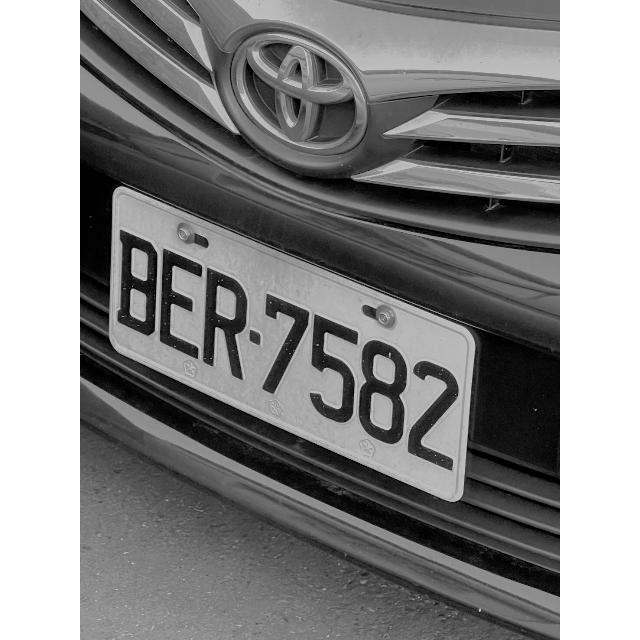-: (246, 324, 266, 354)
2: (404, 349, 467, 484)
5: (307, 309, 363, 439)
7: (256, 286, 312, 424)
8: (356, 333, 415, 468)
B: (114, 223, 161, 351)
E: (156, 242, 207, 372)
R: (197, 260, 256, 390)
